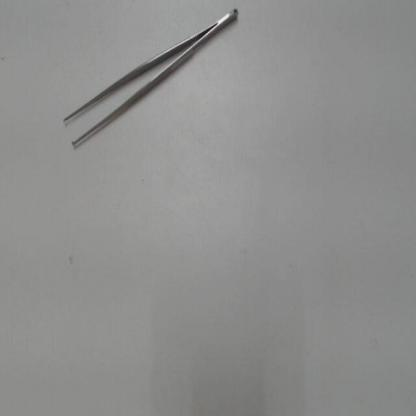Gillies Toothed Dissector: (55, 2, 245, 153)
